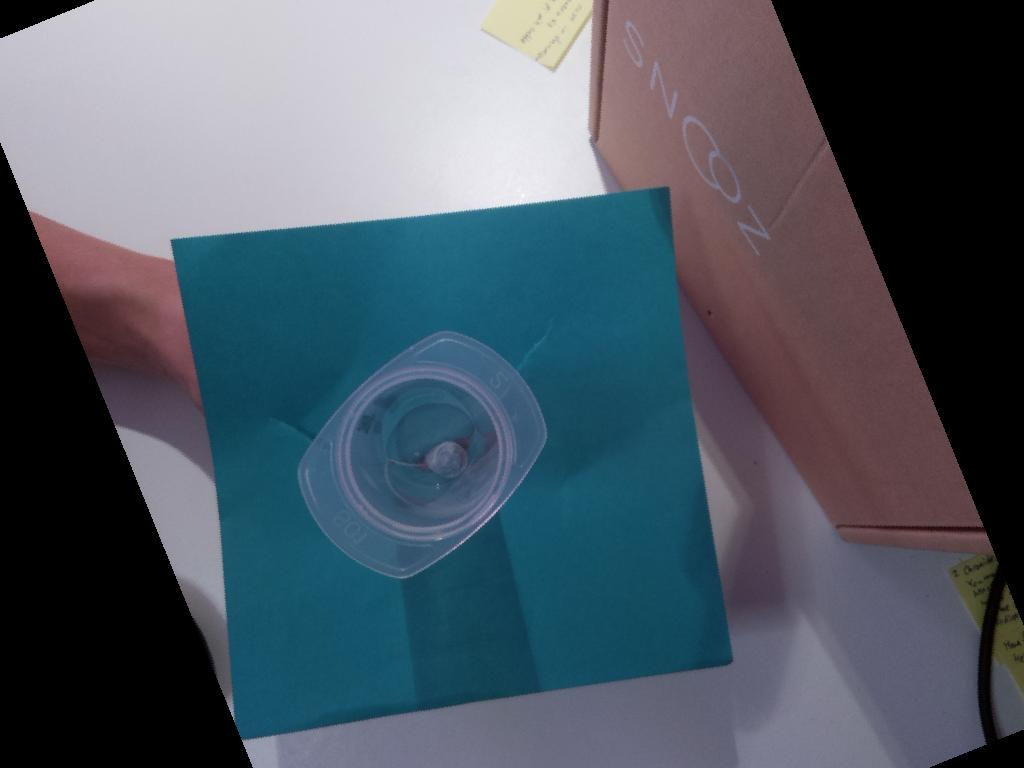clean: (295, 332, 548, 581)
